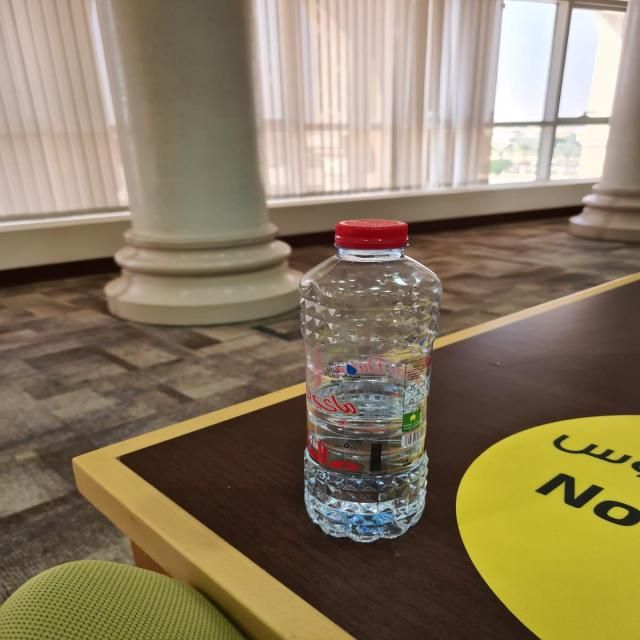bottle: (278, 211, 450, 559)
